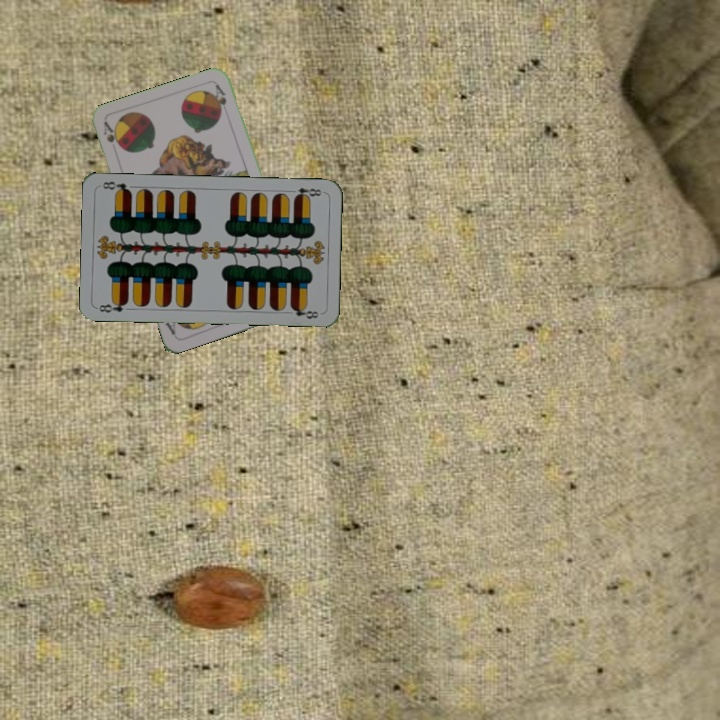E8: (286, 184, 324, 201), (95, 297, 130, 315)
SA: (99, 118, 122, 158)
